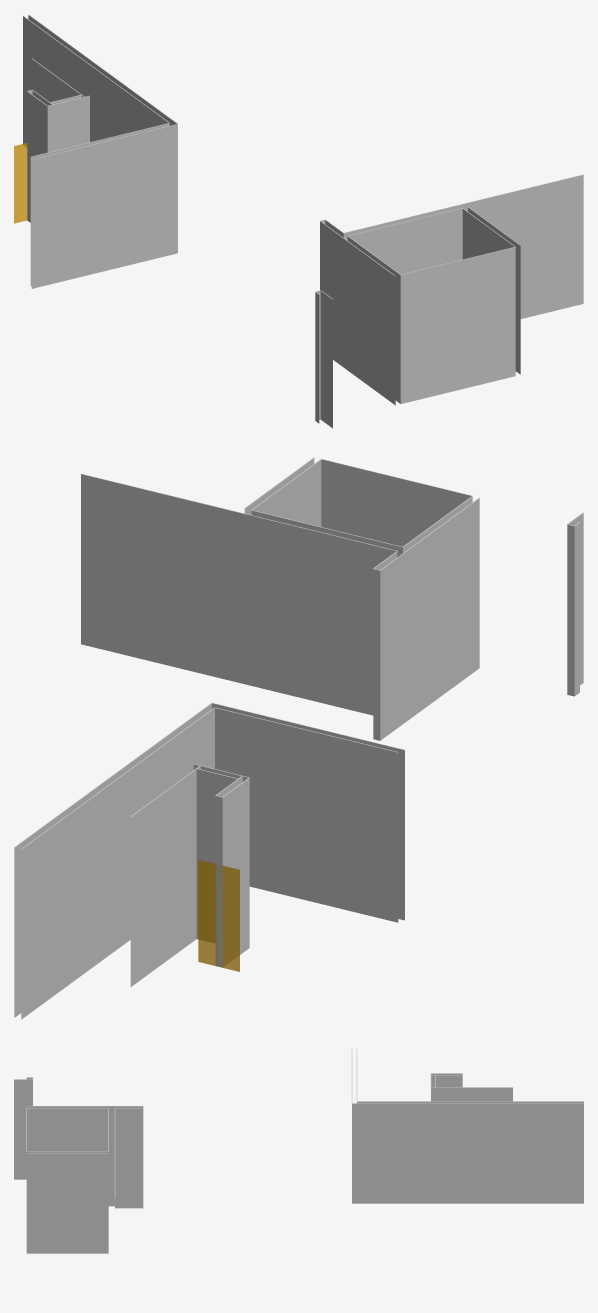
Rendered from a2d79cfc-f8fa-4369-8827-963b745a4c44.glb.
3 renders of one model, top to bottom at view 1: azimuth 30°, elevation 25°; view 2: azimuth 150°, elevation 25°; view 3: azimuth 270°, elevation 25°, orthographic. The views are drawn at different scales.
Visible parts, largest first — view 1: walls, roof, doors; view 2: walls, doors, roof; view 3: walls, roof.
Part boxes in pixels (x1=…): walls: x1=23, y1=15, x2=583, y2=428; roof: x1=23, y1=14, x2=583, y2=299; doors: x1=14, y1=143, x2=27, y2=223; walls: x1=14, y1=458, x2=583, y2=1019; doors: x1=198, y1=859, x2=239, y2=971; roof: x1=14, y1=457, x2=583, y2=849; walls: x1=14, y1=1073, x2=583, y2=1253; roof: x1=14, y1=1048, x2=583, y2=1198.
Size of the model in its own units: 11.3 by 3.5 by 18.07.
